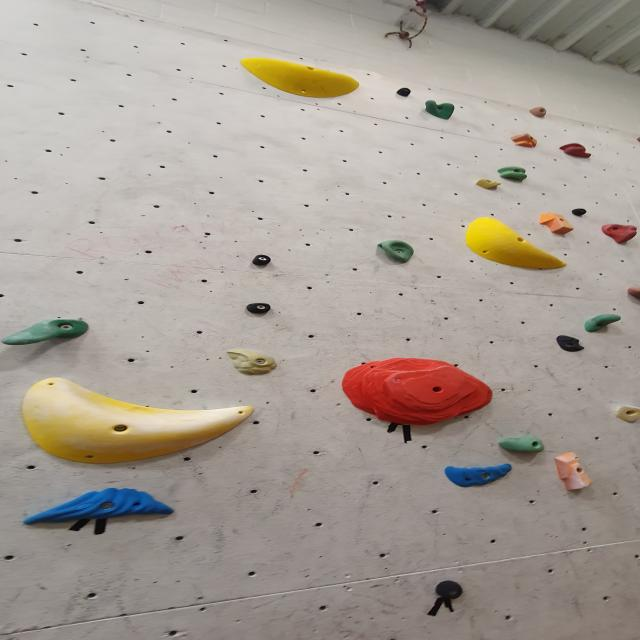Crimp: (340, 364, 496, 428), (20, 489, 178, 527), (442, 464, 515, 487), (223, 349, 280, 377), (558, 143, 592, 159), (508, 134, 538, 149)
Jug: (0, 318, 93, 346), (374, 239, 415, 264), (498, 437, 547, 456), (601, 225, 640, 246), (583, 314, 622, 334), (425, 100, 457, 120), (498, 166, 530, 183), (527, 106, 549, 118)
Pinch: (553, 452, 594, 494), (539, 213, 577, 237), (431, 580, 465, 600), (247, 301, 276, 314), (476, 178, 503, 191), (252, 256, 276, 268), (395, 89, 412, 99), (570, 208, 588, 217)
Sloper: (20, 380, 262, 467), (238, 58, 362, 103), (463, 222, 568, 272), (614, 407, 640, 427), (626, 286, 640, 304)
